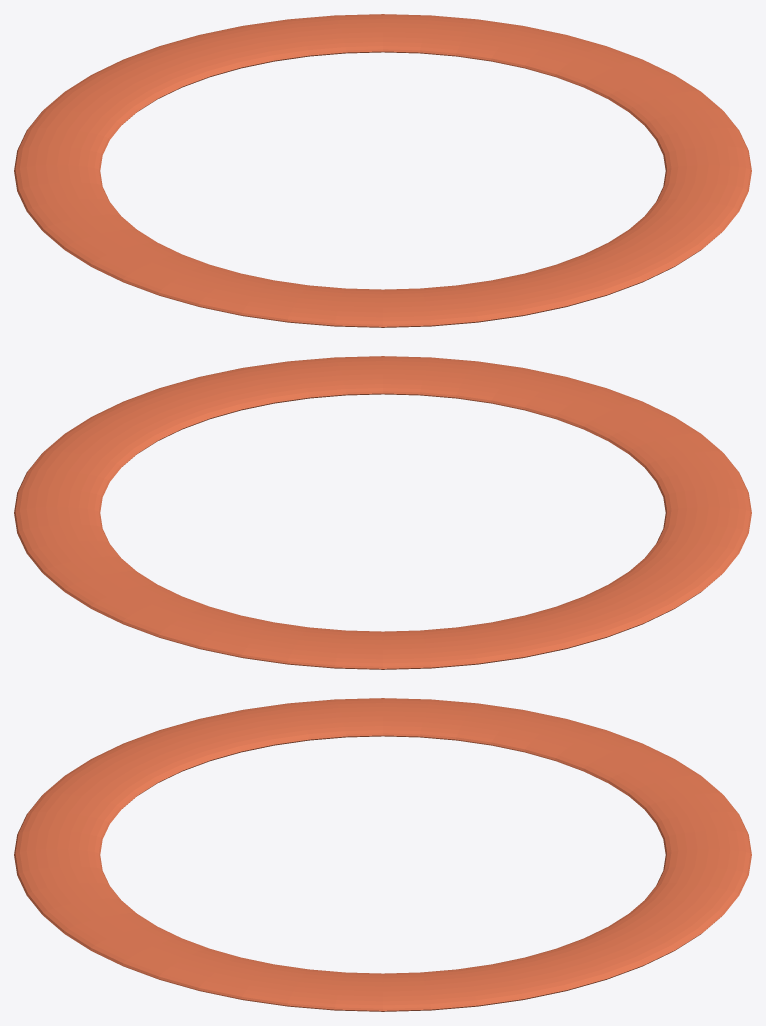
Rendered from asteroid_ring 1.fbx.
3 views of the same model, one above another, from view 1: azimuth 30°, elevation 25°; view 2: azimuth 150°, elevation 25°; view 3: azimuth 270°, elevation 25° (orthographic).
Parts seen in each view (by area): view 1: exterior.001; view 2: exterior.001; view 3: exterior.001.
Boxes of the visible parts, x1,y1,x2,y2 form: exterior.001: (14, 14, 751, 327); exterior.001: (14, 356, 751, 669); exterior.001: (14, 698, 751, 1011).
Size of the model in its own units: 1550 by 27.81 by 1550.
